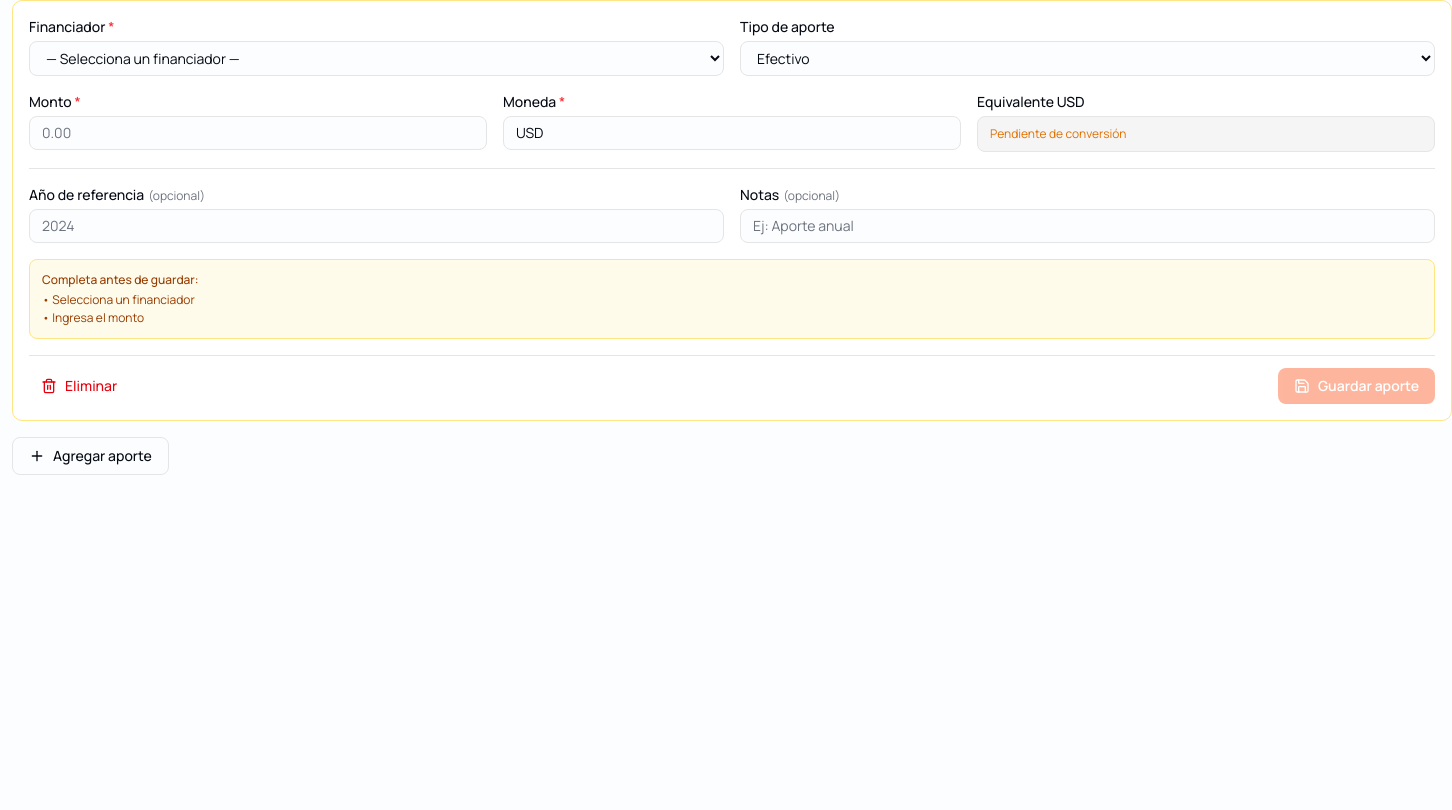
Test: InvestmentList Component › displays FX sub-form only for non-USD currencies
Check: the text "Tasa de conversión" is not shown
Note: Change currency to COP → FX sub-form appears
Replace the text in the field labelled "Moneda *" with "COP": (732, 133) [503,116,961,150]
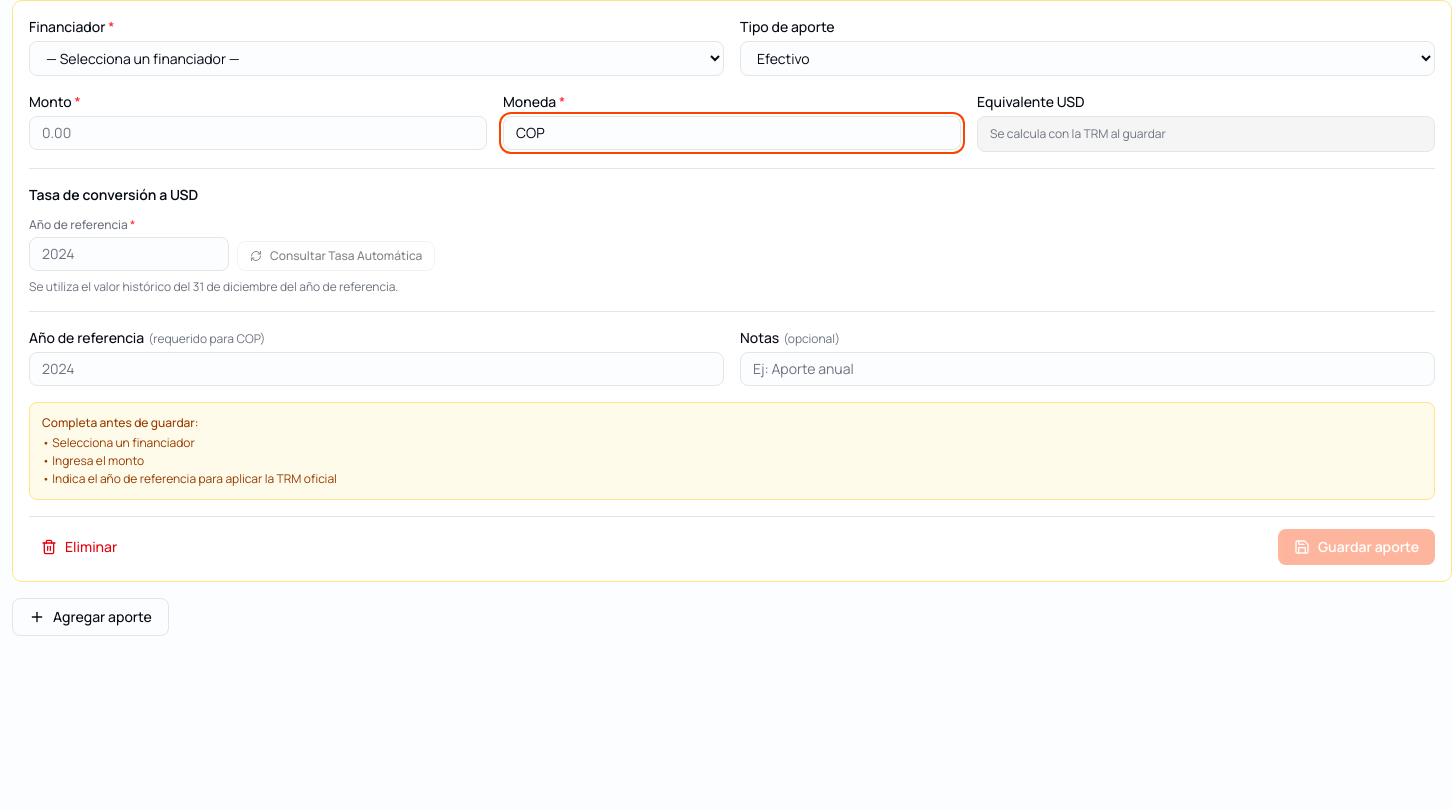
Check: the heading "Tasa de conversión a USD" is shown, box [29,185,198,204]
